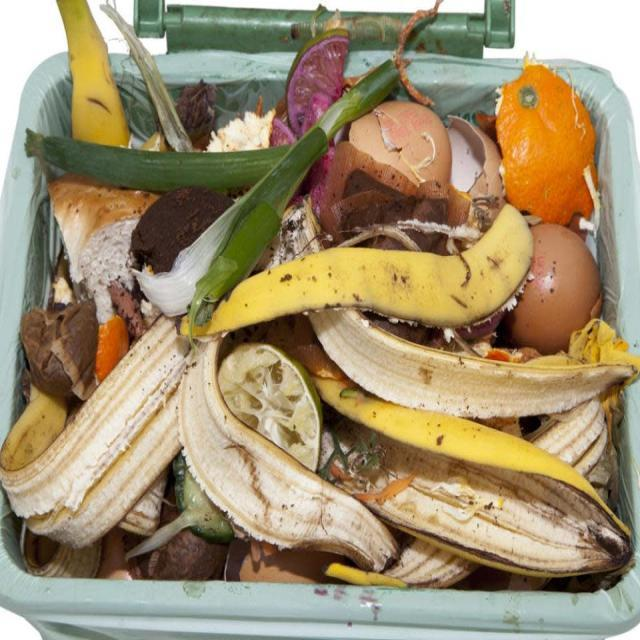Garbage: (0, 0, 640, 636)
